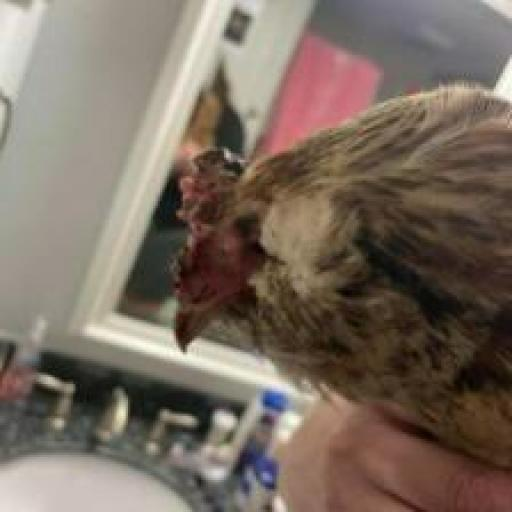disease: (161, 149, 316, 346)
